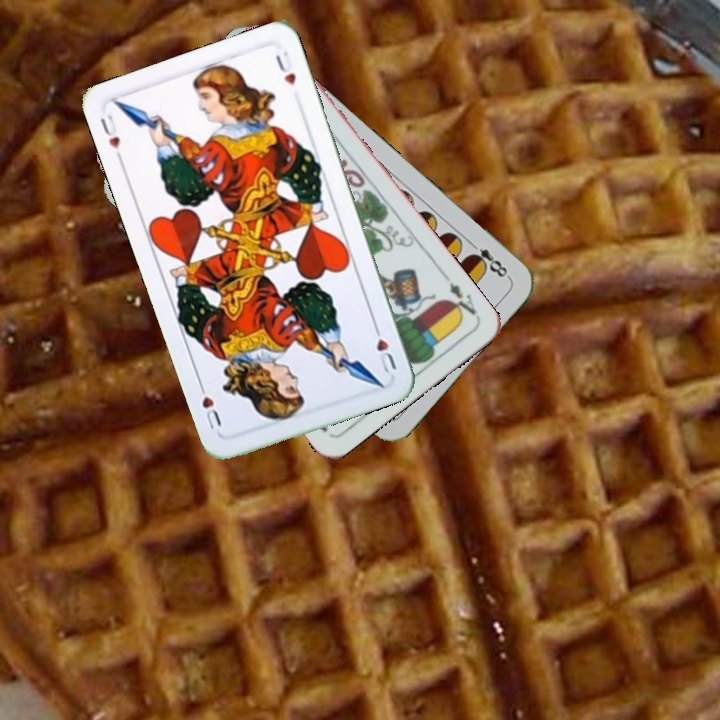E8: (464, 236, 512, 281)
EA: (438, 270, 481, 322)
HU: (369, 319, 399, 376), (95, 111, 123, 152)
